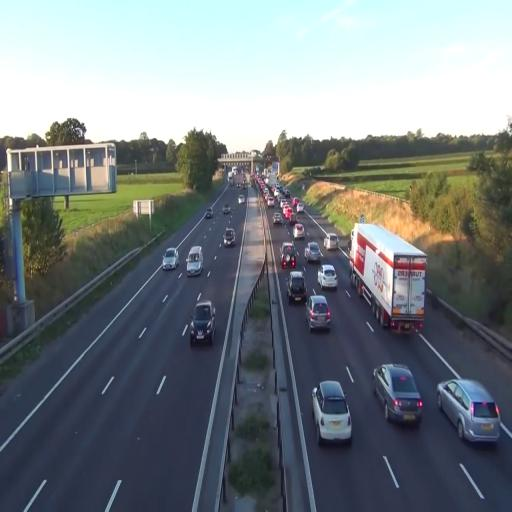vehicle: (348, 220, 428, 334), (436, 377, 501, 446), (372, 364, 424, 425), (312, 379, 352, 445), (190, 300, 216, 346), (306, 294, 332, 333), (287, 270, 308, 304), (317, 263, 337, 290), (186, 245, 203, 276), (280, 241, 298, 270), (305, 242, 323, 266), (162, 248, 178, 270), (223, 226, 237, 248), (205, 210, 213, 220)
